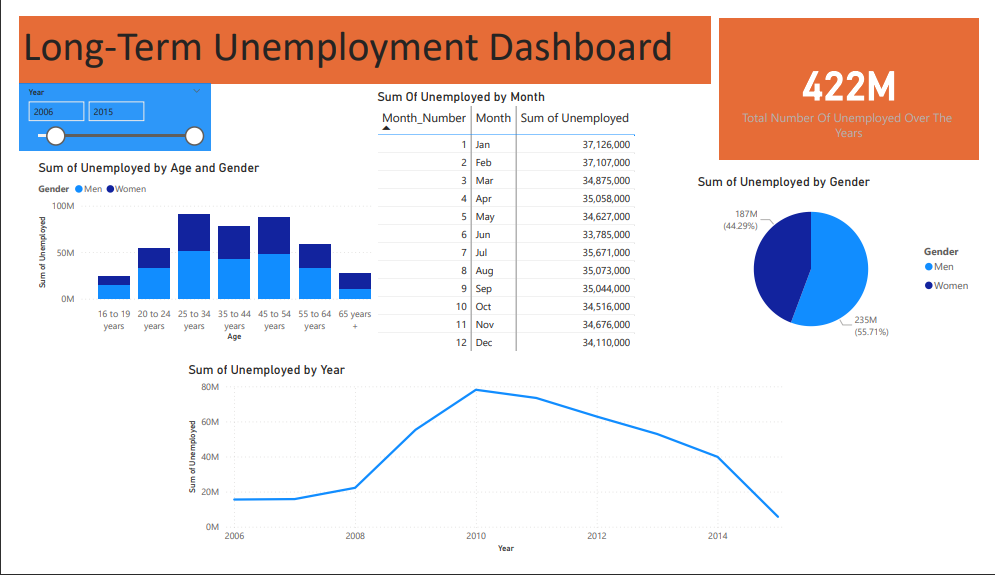

This screenshot's page, from the dashboard's own definition file:
{"tool":"powerbi","page":{"name":"Page 1","canvas":[1280,720],"ordinal":0},"visuals":[{"type":"card","fields":{"Values":["Sum(Unemployment_Statistics_2 (2).Unemployed)"]},"box":[934.3,2.9,345.7,188.6],"z":0},{"type":"textbox","box":[0,0,921.8,89.7],"z":1000},{"type":"columnChart","fields":{"Category":["Unemployment_Statistics_2 (2).Age"],"Y":["Sum(Unemployment_Statistics_2 (2).Unemployed)"],"Series":["Unemployment_Statistics_2 (2).Gender"]},"box":[21.4,191.8,474.5,244.9],"z":2000},{"type":"pieChart","fields":{"Category":["Unemployment_Statistics_2 (2).Gender"],"Y":["Sum(Unemployment_Statistics_2 (2).Unemployed)"]},"box":[900,210,380,235.7],"z":3000},{"type":"lineChart","fields":{"Category":["Unemployment_Statistics_2 (2).Year"],"Y":["Sum(Unemployment_Statistics_2 (2).Unemployed)"]},"box":[221.4,461.4,808.6,258.6],"z":4000},{"type":"tableEx","title":"Sum Of Unemployed by Month","fields":{"Values":["Unemployment_Statistics_2 (2).Month_Number","Unemployment_Statistics_2 (2).Month","Sum(Unemployment_Statistics_2 (2).Unemployed)"]},"box":[472.9,97.1,427.1,372.9],"z":5000},{"type":"slicer","fields":{"Values":["Unemployment_Statistics_2 (2).Year"]},"box":[0,89.8,255.1,89.8],"z":6000}]}

Visuals, with their boxes in screenshot pixels (x1, y1, x2, y2), scaled from the page's 1280x720 canvas onto the 995x575 screenshot:
card - Sum(Unemployment_Statistics_2 (2).Unemployed): <region>726, 2, 994, 153</region>
textbox: <region>0, 0, 717, 72</region>
columnChart - Unemployment_Statistics_2 (2).Age x Sum(Unemployment_Statistics_2 (2).Unemployed): <region>17, 153, 385, 349</region>
pieChart - Unemployment_Statistics_2 (2).Gender x Sum(Unemployment_Statistics_2 (2).Unemployed): <region>700, 168, 994, 356</region>
lineChart - Unemployment_Statistics_2 (2).Year x Sum(Unemployment_Statistics_2 (2).Unemployed): <region>172, 368, 801, 574</region>
"Sum Of Unemployed by Month" tableEx: <region>368, 78, 700, 375</region>
slicer - Unemployment_Statistics_2 (2).Year: <region>0, 72, 198, 143</region>
